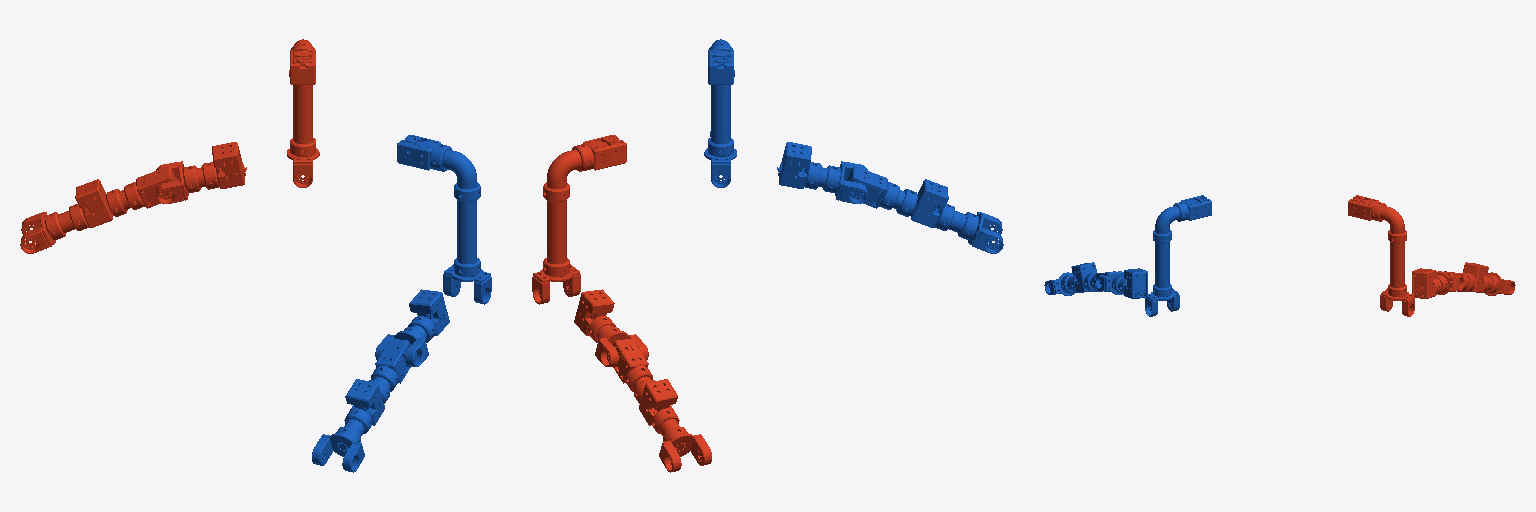
URDF robot description (dracomancer_mkii):
<?xml version='1.0' encoding='utf-8'?>
<robot name="dracomancer_mkii">
  <!--Mannequin excluded. q=0 is the CAD export pose. Continuous joints are provisional; hardware limits are unknown.-->
  <link name="base_link">
    <inertial>
      <origin xyz="0.538297841211797 7.71429791632174e-05 0.0394609993474961" rpy="0 0 0" />
      <mass value="1.12193720771918" />
      <inertia ixx="0.00608085027046048" ixy="1.6102669909721e-05" ixz="-0.00246744714079603" iyy="0.0143480736279953" iyz="1.38983508081588e-06" izz="0.01668873664382" />
    </inertial>
    <visual>
      <origin xyz="0 0 0" rpy="1.5707963267949 0 1.5707963267949" />
      <geometry>
        <mesh filename="package://dracomancer_mkii_ros/meshes/base.stl" scale="1 1 1" />
      </geometry>
      <material name="color_base_link">
        <color rgba="0.45 0.48 0.52 1" />
      </material>
    </visual>
    <collision>
      <origin xyz="0 0 0" rpy="1.5707963267949 0 1.5707963267949" />
      <geometry>
        <mesh filename="package://dracomancer_mkii_ros/meshes/base.stl" scale="1 1 1" />
      </geometry>
    </collision>
  </link>
  <link name="right_link1_shoulder">
    <inertial>
      <origin xyz="-2.22054765015818e-06 -0.0623248806898595 0.0537570317000164" rpy="0 0 0" />
      <mass value="0.311033190448667" />
      <inertia ixx="0.00184709302301005" ixy="-2.30803069612402e-08" ixz="8.28095308956081e-09" iyy="0.00136038129198454" iyz="0.000554003802814448" izz="0.00053989042537464" />
    </inertial>
    <visual>
      <origin xyz="0 0 0" rpy="0 0 0" />
      <geometry>
        <mesh filename="package://dracomancer_mkii_ros/meshes/link1_shoulder.stl" scale="1 1 1" />
      </geometry>
      <material name="color_right_link1_shoulder">
        <color rgba="0.15 0.42 0.78 1" />
      </material>
    </visual>
    <collision>
      <origin xyz="0 0 0" rpy="0 0 0" />
      <geometry>
        <mesh filename="package://dracomancer_mkii_ros/meshes/link1_shoulder.stl" scale="1 1 1" />
      </geometry>
    </collision>
  </link>
  <link name="right_link2_upper_arm_upper">
    <inertial>
      <origin xyz="-3.85946855000866e-09 -0.0295644761615872 0.000334681730333839" rpy="0 0 0" />
      <mass value="0.159071368425311" />
      <inertia ixx="0.00015395693183761" ixy="-1.98221699093399e-11" ixz="-7.39384026757579e-13" iyy="3.05732363744265e-05" iyz="-1.06306497457957e-06" izz="0.000154185767444511" />
    </inertial>
    <visual>
      <origin xyz="0 0 0" rpy="0 0 0" />
      <geometry>
        <mesh filename="package://dracomancer_mkii_ros/meshes/link2_upper_arm_upper.stl" scale="1 1 1" />
      </geometry>
      <material name="color_right_link2_upper_arm_upper">
        <color rgba="0.15 0.42 0.78 1" />
      </material>
    </visual>
    <collision>
      <origin xyz="0 0 0" rpy="0 0 0" />
      <geometry>
        <mesh filename="package://dracomancer_mkii_ros/meshes/link2_upper_arm_upper.stl" scale="1 1 1" />
      </geometry>
    </collision>
  </link>
  <link name="right_link3_upper_arm_lower">
    <inertial>
      <origin xyz="-2.97656988118984e-06 -0.00669352163145934 -0.0271761889340157" rpy="0 0 0" />
      <mass value="0.202851713995559" />
      <inertia ixx="0.000294829882555397" ixy="-1.46151737643307e-08" ixz="3.55109407912184e-09" iyy="0.000286653907320972" iyz="3.55213110018567e-05" izz="7.86474683477143e-05" />
    </inertial>
    <visual>
      <origin xyz="0 0 0" rpy="0 0 0" />
      <geometry>
        <mesh filename="package://dracomancer_mkii_ros/meshes/link3_upper_arm_lower.stl" scale="1 1 1" />
      </geometry>
      <material name="color_right_link3_upper_arm_lower">
        <color rgba="0.15 0.42 0.78 1" />
      </material>
    </visual>
    <collision>
      <origin xyz="0 0 0" rpy="0 0 0" />
      <geometry>
        <mesh filename="package://dracomancer_mkii_ros/meshes/link3_upper_arm_lower.stl" scale="1 1 1" />
      </geometry>
    </collision>
  </link>
  <link name="right_link4_lower_arm_upper">
    <inertial>
      <origin xyz="-3.85946855014225e-09 -0.0295644761615872 0.000334681730333784" rpy="0 0 0" />
      <mass value="0.159071368425311" />
      <inertia ixx="0.00015395693183761" ixy="-1.98221699232484e-11" ixz="-7.39384025317761e-13" iyy="3.05732363744266e-05" iyz="-1.06306497457958e-06" izz="0.000154185767444511" />
    </inertial>
    <visual>
      <origin xyz="0 0 0" rpy="0 0 0" />
      <geometry>
        <mesh filename="package://dracomancer_mkii_ros/meshes/link4_lower_arm_upper.stl" scale="1 1 1" />
      </geometry>
      <material name="color_right_link4_lower_arm_upper">
        <color rgba="0.15 0.42 0.78 1" />
      </material>
    </visual>
    <collision>
      <origin xyz="0 0 0" rpy="0 0 0" />
      <geometry>
        <mesh filename="package://dracomancer_mkii_ros/meshes/link4_lower_arm_upper.stl" scale="1 1 1" />
      </geometry>
    </collision>
  </link>
  <link name="right_link5_lower_arm_lower">
    <inertial>
      <origin xyz="-2.97656988122939e-06 -0.00669352163145912 -0.0271761889340158" rpy="0 0 0" />
      <mass value="0.202851713995559" />
      <inertia ixx="0.000294829882555399" ixy="-1.46151737642407e-08" ixz="3.55109407857361e-09" iyy="0.000286653907320974" iyz="3.55213110018573e-05" izz="7.86474683477144e-05" />
    </inertial>
    <visual>
      <origin xyz="0 0 0" rpy="0 0 0" />
      <geometry>
        <mesh filename="package://dracomancer_mkii_ros/meshes/link5_lower_arm_lower.stl" scale="1 1 1" />
      </geometry>
      <material name="color_right_link5_lower_arm_lower">
        <color rgba="0.15 0.42 0.78 1" />
      </material>
    </visual>
    <collision>
      <origin xyz="0 0 0" rpy="0 0 0" />
      <geometry>
        <mesh filename="package://dracomancer_mkii_ros/meshes/link5_lower_arm_lower.stl" scale="1 1 1" />
      </geometry>
    </collision>
  </link>
  <link name="right_link6_wrist_upper">
    <inertial>
      <origin xyz="0 -0.0221395746339372 0.000381004081849901" rpy="0 0 0" />
      <mass value="0.142115458481556" />
      <inertia ixx="9.32557597243337e-05" ixy="0" ixz="0" iyy="4.31340174898552e-05" iyz="-6.78069154759594e-07" izz="0.000108426371262755" />
    </inertial>
    <visual>
      <origin xyz="0 0 0" rpy="0 0 0" />
      <geometry>
        <mesh filename="package://dracomancer_mkii_ros/meshes/link6_wrist_upper.stl" scale="1 1 1" />
      </geometry>
      <material name="color_right_link6_wrist_upper">
        <color rgba="0.15 0.42 0.78 1" />
      </material>
    </visual>
    <collision>
      <origin xyz="0 0 0" rpy="0 0 0" />
      <geometry>
        <mesh filename="package://dracomancer_mkii_ros/meshes/link6_wrist_upper.stl" scale="1 1 1" />
      </geometry>
    </collision>
  </link>
  <link name="right_link7_wrist_lower">
    <inertial>
      <origin xyz="0.0397499857748888 -0.0627907132008446 0.000158967612462773" rpy="0 0 0" />
      <mass value="0.319082232072848" />
      <inertia ixx="0.000547068750649334" ixy="0.000415615963137919" ixz="2.1970737917657e-06" iyy="0.000717807823662787" iyz="-2.99281119292708e-06" izz="0.00120844468876245" />
    </inertial>
    <visual>
      <origin xyz="0 0 0" rpy="0 0 0" />
      <geometry>
        <mesh filename="package://dracomancer_mkii_ros/meshes/link7_wrist_lower.stl" scale="1 1 1" />
      </geometry>
      <material name="color_right_link7_wrist_lower">
        <color rgba="0.15 0.42 0.78 1" />
      </material>
    </visual>
    <collision>
      <origin xyz="0 0 0" rpy="0 0 0" />
      <geometry>
        <mesh filename="package://dracomancer_mkii_ros/meshes/link7_wrist_lower.stl" scale="1 1 1" />
      </geometry>
    </collision>
  </link>
  <link name="left_link1_shoulder">
    <inertial>
      <origin xyz="-2.22054765027062e-06 -0.0623248806898594 0.0537570317000164" rpy="0 0 0" />
      <mass value="0.311033190448667" />
      <inertia ixx="0.00184709302301005" ixy="-2.30803069612978e-08" ixz="8.28095308957365e-09" iyy="0.00136038129198454" iyz="0.000554003802814448" izz="0.00053989042537464" />
    </inertial>
    <visual>
      <origin xyz="0 0 0" rpy="0 0 0" />
      <geometry>
        <mesh filename="package://dracomancer_mkii_ros/meshes/link1_shoulder.stl" scale="1 1 1" />
      </geometry>
      <material name="color_left_link1_shoulder">
        <color rgba="0.85 0.28 0.17 1" />
      </material>
    </visual>
    <collision>
      <origin xyz="0 0 0" rpy="0 0 0" />
      <geometry>
        <mesh filename="package://dracomancer_mkii_ros/meshes/link1_shoulder.stl" scale="1 1 1" />
      </geometry>
    </collision>
  </link>
  <link name="left_link2_upper_arm_upper">
    <inertial>
      <origin xyz="-3.85946857144154e-09 -0.0295644761615872 0.000334681730333839" rpy="0 0 0" />
      <mass value="0.159071368425311" />
      <inertia ixx="0.00015395693183761" ixy="-1.98221699193977e-11" ixz="-7.3938402374252e-13" iyy="3.05732363744265e-05" iyz="-1.06306497457957e-06" izz="0.000154185767444511" />
    </inertial>
    <visual>
      <origin xyz="0 0 0" rpy="0 0 0" />
      <geometry>
        <mesh filename="package://dracomancer_mkii_ros/meshes/link2_upper_arm_upper.stl" scale="1 1 1" />
      </geometry>
      <material name="color_left_link2_upper_arm_upper">
        <color rgba="0.85 0.28 0.17 1" />
      </material>
    </visual>
    <collision>
      <origin xyz="0 0 0" rpy="0 0 0" />
      <geometry>
        <mesh filename="package://dracomancer_mkii_ros/meshes/link2_upper_arm_upper.stl" scale="1 1 1" />
      </geometry>
    </collision>
  </link>
  <link name="left_link3_upper_arm_lower">
    <inertial>
      <origin xyz="-2.97656988118356e-06 -0.00669352163145936 -0.0271761889340157" rpy="0 0 0" />
      <mass value="0.202851713995559" />
      <inertia ixx="0.000294829882555397" ixy="-1.46151737643352e-08" ixz="3.55109407910174e-09" iyy="0.000286653907320972" iyz="3.55213110018567e-05" izz="7.86474683477143e-05" />
    </inertial>
    <visual>
      <origin xyz="0 0 0" rpy="0 0 0" />
      <geometry>
        <mesh filename="package://dracomancer_mkii_ros/meshes/link3_upper_arm_lower.stl" scale="1 1 1" />
      </geometry>
      <material name="color_left_link3_upper_arm_lower">
        <color rgba="0.85 0.28 0.17 1" />
      </material>
    </visual>
    <collision>
      <origin xyz="0 0 0" rpy="0 0 0" />
      <geometry>
        <mesh filename="package://dracomancer_mkii_ros/meshes/link3_upper_arm_lower.stl" scale="1 1 1" />
      </geometry>
    </collision>
  </link>
  <link name="left_link4_lower_arm_upper">
    <inertial>
      <origin xyz="-3.85946853918842e-09 -0.0295644761615872 0.000334681730333841" rpy="0 0 0" />
      <mass value="0.159071368425311" />
      <inertia ixx="0.00015395693183761" ixy="-1.98221699253028e-11" ixz="-7.39384033229203e-13" iyy="3.05732363744266e-05" iyz="-1.06306497457956e-06" izz="0.000154185767444511" />
    </inertial>
    <visual>
      <origin xyz="0 0 0" rpy="0 0 0" />
      <geometry>
        <mesh filename="package://dracomancer_mkii_ros/meshes/link4_lower_arm_upper.stl" scale="1 1 1" />
      </geometry>
      <material name="color_left_link4_lower_arm_upper">
        <color rgba="0.85 0.28 0.17 1" />
      </material>
    </visual>
    <collision>
      <origin xyz="0 0 0" rpy="0 0 0" />
      <geometry>
        <mesh filename="package://dracomancer_mkii_ros/meshes/link4_lower_arm_upper.stl" scale="1 1 1" />
      </geometry>
    </collision>
  </link>
  <link name="left_link5_lower_arm_lower">
    <inertial>
      <origin xyz="-2.97656988139602e-06 -0.00669352163145911 -0.0271761889340158" rpy="0 0 0" />
      <mass value="0.202851713995559" />
      <inertia ixx="0.000294829882555399" ixy="-1.46151737642532e-08" ixz="3.55109407854969e-09" iyy="0.000286653907320974" iyz="3.55213110018573e-05" izz="7.86474683477143e-05" />
    </inertial>
    <visual>
      <origin xyz="0 0 0" rpy="0 0 0" />
      <geometry>
        <mesh filename="package://dracomancer_mkii_ros/meshes/link5_lower_arm_lower.stl" scale="1 1 1" />
      </geometry>
      <material name="color_left_link5_lower_arm_lower">
        <color rgba="0.85 0.28 0.17 1" />
      </material>
    </visual>
    <collision>
      <origin xyz="0 0 0" rpy="0 0 0" />
      <geometry>
        <mesh filename="package://dracomancer_mkii_ros/meshes/link5_lower_arm_lower.stl" scale="1 1 1" />
      </geometry>
    </collision>
  </link>
  <link name="left_link6_wrist_upper">
    <inertial>
      <origin xyz="0 -0.0221395746339372 0.000381004081849901" rpy="0 0 0" />
      <mass value="0.142115458481556" />
      <inertia ixx="9.32557597243337e-05" ixy="0" ixz="0" iyy="4.31340174898552e-05" iyz="-6.78069154759584e-07" izz="0.000108426371262755" />
    </inertial>
    <visual>
      <origin xyz="0 0 0" rpy="0 0 0" />
      <geometry>
        <mesh filename="package://dracomancer_mkii_ros/meshes/link6_wrist_upper.stl" scale="1 1 1" />
      </geometry>
      <material name="color_left_link6_wrist_upper">
        <color rgba="0.85 0.28 0.17 1" />
      </material>
    </visual>
    <collision>
      <origin xyz="0 0 0" rpy="0 0 0" />
      <geometry>
        <mesh filename="package://dracomancer_mkii_ros/meshes/link6_wrist_upper.stl" scale="1 1 1" />
      </geometry>
    </collision>
  </link>
  <link name="left_link7_wrist_lower">
    <inertial>
      <origin xyz="0.0397499857748886 -0.0627907132008445 0.000158967612462766" rpy="0 0 0" />
      <mass value="0.319082232072848" />
      <inertia ixx="0.000547068750649334" ixy="0.000415615963137919" ixz="2.19707379176584e-06" iyy="0.000717807823662786" iyz="-2.9928111929272e-06" izz="0.00120844468876245" />
    </inertial>
    <visual>
      <origin xyz="0 0 0" rpy="0 0 0" />
      <geometry>
        <mesh filename="package://dracomancer_mkii_ros/meshes/link7_wrist_lower.stl" scale="1 1 1" />
      </geometry>
      <material name="color_left_link7_wrist_lower">
        <color rgba="0.85 0.28 0.17 1" />
      </material>
    </visual>
    <collision>
      <origin xyz="0 0 0" rpy="0 0 0" />
      <geometry>
        <mesh filename="package://dracomancer_mkii_ros/meshes/link7_wrist_lower.stl" scale="1 1 1" />
      </geometry>
    </collision>
  </link>
  <joint name="right_joint_1" type="continuous">
    <origin xyz="0.606273192976864 -0.165000000000001 0.118000000002988" rpy="3.14159265358979 0 -2.61267538086395" />
    <parent link="base_link" />
    <child link="right_link1_shoulder" />
    <axis xyz="0 0 -1" />
  </joint>
  <joint name="right_joint_2" type="continuous">
    <origin xyz="0 -0.0957500000000009 0.19" rpy="-1.57079632679489 1.36015554101046 0" />
    <parent link="right_link1_shoulder" />
    <child link="right_link2_upper_arm_upper" />
    <axis xyz="0 0 -1" />
  </joint>
  <joint name="right_joint_3" type="continuous">
    <origin xyz="0 -0.10975 0" rpy="-1.57079632679491 1.44467080178209 0" />
    <parent link="right_link2_upper_arm_upper" />
    <child link="right_link3_upper_arm_lower" />
    <axis xyz="0 0 -1" />
  </joint>
  <joint name="right_joint_4" type="continuous">
    <origin xyz="0 0 -0.102000000000001" rpy="1.57079632679489 0.200599455542163 -1.5707963267949" />
    <parent link="right_link3_upper_arm_lower" />
    <child link="right_link4_lower_arm_upper" />
    <axis xyz="0 0 -1" />
  </joint>
  <joint name="right_joint_5" type="continuous">
    <origin xyz="0 -0.10975 0" rpy="1.5707963267949 1.4488957434623 -3.14159265358979" />
    <parent link="right_link4_lower_arm_upper" />
    <child link="right_link5_lower_arm_lower" />
    <axis xyz="0 0 1" />
  </joint>
  <joint name="right_joint_6" type="continuous">
    <origin xyz="0 0 -0.102000000000003" rpy="1.5707963267949 -0.0116000594150987 -1.57079632679491" />
    <parent link="right_link5_lower_arm_lower" />
    <child link="right_link6_wrist_upper" />
    <axis xyz="0 0 -1" />
  </joint>
  <joint name="right_joint_7" type="continuous">
    <origin xyz="0 -0.0707499999999921 0" rpy="1.57079632679492 -1.37330369135277 -1.57079632679492" />
    <parent link="right_link6_wrist_upper" />
    <child link="right_link7_wrist_lower" />
    <axis xyz="0 0 -1" />
  </joint>
  <joint name="left_joint_1" type="continuous">
    <origin xyz="0.606273192976864 0.165000000000001 0.118000000002988" rpy="3.14159265358979 0 -0.528917272725839" />
    <parent link="base_link" />
    <child link="left_link1_shoulder" />
    <axis xyz="0 0 -1" />
  </joint>
  <joint name="left_joint_2" type="continuous">
    <origin xyz="0 -0.0957500000000009 0.189999999999999" rpy="-1.57079632679489 -1.36015554101046 0" />
    <parent link="left_link1_shoulder" />
    <child link="left_link2_upper_arm_upper" />
    <axis xyz="0 0 -1" />
  </joint>
  <joint name="left_joint_3" type="continuous">
    <origin xyz="0 -0.10975 0" rpy="-1.57079632679491 -1.44467080178209 0" />
    <parent link="left_link2_upper_arm_upper" />
    <child link="left_link3_upper_arm_lower" />
    <axis xyz="0 0 -1" />
  </joint>
  <joint name="left_joint_4" type="continuous">
    <origin xyz="0 0 -0.102000000000001" rpy="1.57079632679489 -0.200599455542163 1.5707963267949" />
    <parent link="left_link3_upper_arm_lower" />
    <child link="left_link4_lower_arm_upper" />
    <axis xyz="0 0 -1" />
  </joint>
  <joint name="left_joint_5" type="continuous">
    <origin xyz="0 -0.10975 0" rpy="1.5707963267949 -1.44889574346231 3.14159265358979" />
    <parent link="left_link4_lower_arm_upper" />
    <child link="left_link5_lower_arm_lower" />
    <axis xyz="0 0 1" />
  </joint>
  <joint name="left_joint_6" type="continuous">
    <origin xyz="0 0 -0.102000000000003" rpy="1.5707963267949 0.0116000594150988 1.57079632679491" />
    <parent link="left_link5_lower_arm_lower" />
    <child link="left_link6_wrist_upper" />
    <axis xyz="0 0 -1" />
  </joint>
  <joint name="left_joint_7" type="continuous">
    <origin xyz="0.00223345866813776 -0.0707499999999922 0" rpy="1.57079632679488 -1.37330369135277 -1.57079632679488" />
    <parent link="left_link6_wrist_upper" />
    <child link="left_link7_wrist_lower" />
    <axis xyz="0 0 -1" />
  </joint>
</robot>

--- What the picture shows (computed from the rendered views, not written in the file) ---
The picture shows the robot from 3 angles, left to right: view 1: azimuth 30°, elevation 25°; view 2: azimuth 150°, elevation 25°; view 3: azimuth 270°, elevation 25°; orthographic projection.
Robot: dracomancer_mkii — 15 links, 14 joints (14 continuous); root link base_link; default pose: all joints at 0.
Links seen in each view (by area): view 1: right_link1_shoulder, left_link1_shoulder, right_link5_lower_arm_lower, left_link5_lower_arm_lower, left_link3_upper_arm_lower, right_link3_upper_arm_lower, left_link4_lower_arm_upper, right_link4_lower_arm_upper; view 2: left_link1_shoulder, right_link1_shoulder, left_link5_lower_arm_lower, right_link5_lower_arm_lower, right_link3_upper_arm_lower, left_link3_upper_arm_lower, right_link4_lower_arm_upper, left_link4_lower_arm_upper; view 3: right_link1_shoulder, left_link1_shoulder, left_link3_upper_arm_lower, right_link3_upper_arm_lower, left_link5_lower_arm_lower, right_link5_lower_arm_lower.
Boxes of the visible links, x1=… form: right_link1_shoulder: x1=397, y1=135, x2=491, y2=304; left_link1_shoulder: x1=287, y1=39, x2=319, y2=187; right_link5_lower_arm_lower: x1=312, y1=379, x2=384, y2=472; left_link5_lower_arm_lower: x1=20, y1=179, x2=112, y2=253; left_link3_upper_arm_lower: x1=156, y1=142, x2=246, y2=203; right_link3_upper_arm_lower: x1=375, y1=289, x2=449, y2=366; left_link4_lower_arm_upper: x1=106, y1=166, x2=177, y2=216; right_link4_lower_arm_upper: x1=369, y1=339, x2=410, y2=403; left_link1_shoulder: x1=532, y1=135, x2=626, y2=304; right_link1_shoulder: x1=704, y1=39, x2=736, y2=187; left_link5_lower_arm_lower: x1=639, y1=379, x2=711, y2=472; right_link5_lower_arm_lower: x1=911, y1=179, x2=1003, y2=253; right_link3_upper_arm_lower: x1=777, y1=142, x2=867, y2=203; left_link3_upper_arm_lower: x1=574, y1=289, x2=648, y2=366; right_link4_lower_arm_upper: x1=846, y1=166, x2=917, y2=216; left_link4_lower_arm_upper: x1=613, y1=339, x2=654, y2=403; right_link1_shoulder: x1=1145, y1=195, x2=1211, y2=316; left_link1_shoulder: x1=1348, y1=195, x2=1414, y2=316; left_link3_upper_arm_lower: x1=1412, y1=268, x2=1464, y2=298; right_link3_upper_arm_lower: x1=1095, y1=268, x2=1147, y2=298; left_link5_lower_arm_lower: x1=1463, y1=262, x2=1515, y2=295; right_link5_lower_arm_lower: x1=1044, y1=262, x2=1096, y2=295.
Bounding box of the posed robot: 0.4111 × 0.9917 × 0.3579 m (x, y, z).
Meshes: 8 distinct files referenced, 8 mesh visuals loaded (4 binary STL); not drawn: 7 (reference not matched to a file when rendering).
